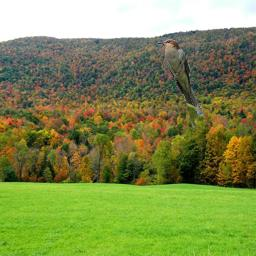Cuckoo: (157, 39, 204, 129)
